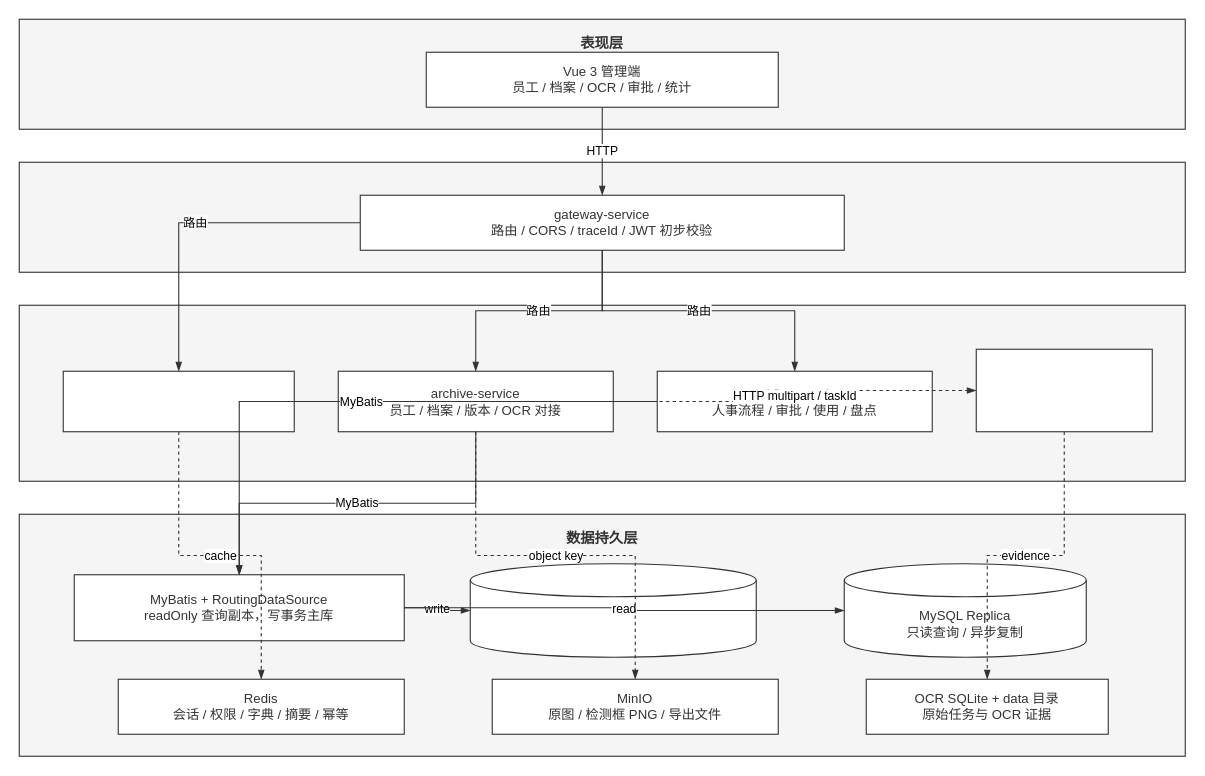
This 1205x776 diagram has some shape labels left out. The box of each missing label's shape, as (x1, y1, x2, y2) in pixels:
identity-service 认证 / RBAC / 组织: (62, 370, 294, 432)
MySQL Primary identity_db / archive_db / workflow_db 写入与读己之写: (469, 563, 756, 657)
ocr-service FastAPI + PaddleOCR 文本识别 / 检测框 / 修订: (975, 348, 1152, 432)
业务逻辑层: (18, 304, 1185, 481)
接口层: (18, 161, 1185, 272)
